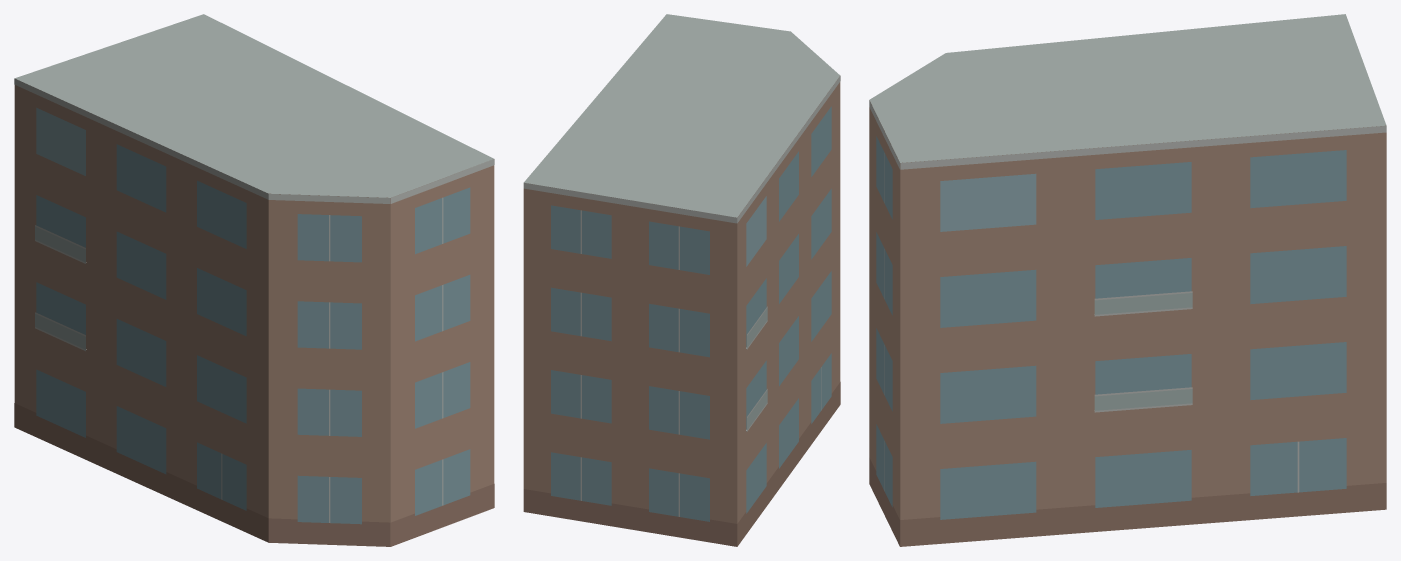
The model's file is survey-upis-32872123.glb.
3 views of the same model, side by side, from view 1: azimuth 30°, elevation 25°; view 2: azimuth 150°, elevation 25°; view 3: azimuth 270°, elevation 25° (orthographic). The views are drawn at different scales.
Visible parts, largest first — view 1: survey-upis-32872123.tmp; view 2: survey-upis-32872123.tmp; view 3: survey-upis-32872123.tmp.
Boxes of the visible parts, left/top/right/bottom form: survey-upis-32872123.tmp: left=14, top=14, right=494, bottom=546; survey-upis-32872123.tmp: left=523, top=14, right=840, bottom=546; survey-upis-32872123.tmp: left=869, top=14, right=1386, bottom=546.
Size of the model in its own units: 11.41 by 13.7 by 16.74.
